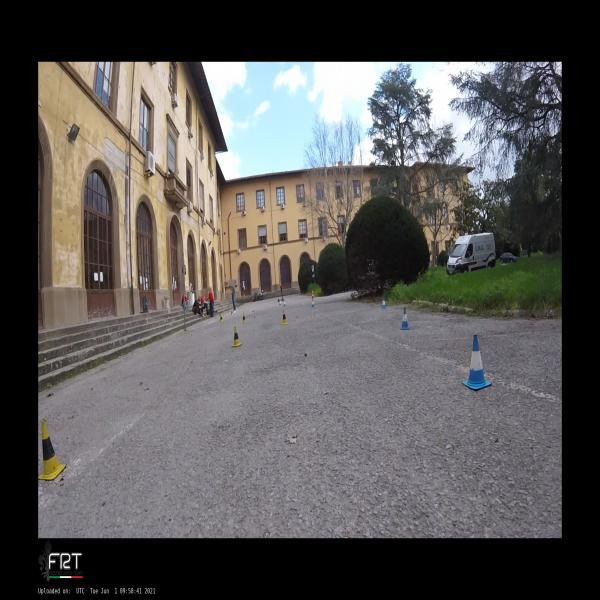blue_cone: (461, 334, 492, 392), (400, 307, 410, 330), (381, 297, 387, 309), (311, 298, 315, 307), (283, 300, 286, 306), (279, 300, 282, 305)
large_orange_cone: (311, 290, 315, 299)
yellow_cone: (38, 419, 66, 481), (232, 326, 242, 347), (281, 310, 288, 326), (219, 313, 224, 323), (242, 312, 246, 324), (231, 310, 233, 316)
